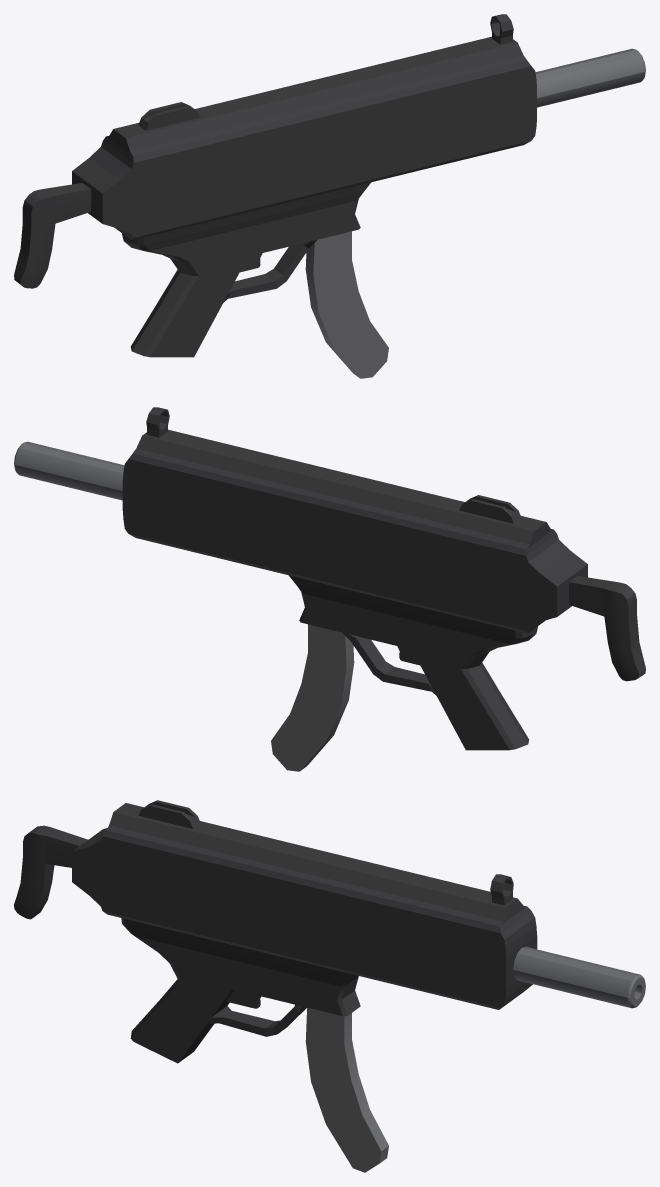
Rendered from SMG Model.fbx.
The picture shows the model from 3 angles, top to bottom: view 1: azimuth 30°, elevation 25°; view 2: azimuth 150°, elevation 25°; view 3: azimuth 330°, elevation 25°; orthographic projection.
Parts seen in each view (by area): view 1: SMG; view 2: SMG; view 3: SMG.
Boxes of the visible parts, <box> form: SMG: <box>14,14,645,378</box>; SMG: <box>14,407,645,771</box>; SMG: <box>14,800,645,1172</box>.
Size of the model in its own units: 79.01 by 39.74 by 6.77.
